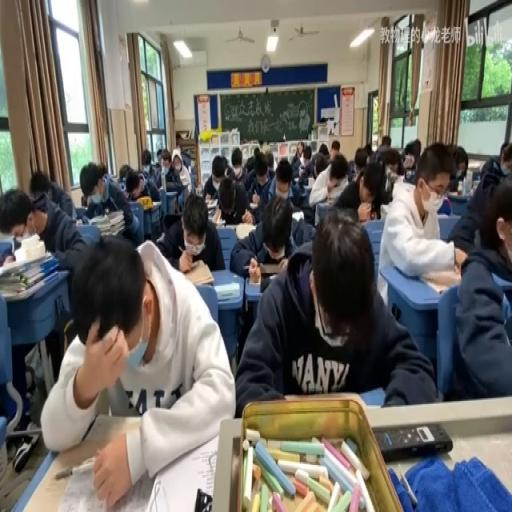calculator: (55, 448, 155, 512), (145, 431, 219, 509), (420, 264, 464, 294), (180, 257, 214, 286), (214, 282, 240, 300), (234, 222, 256, 240), (99, 220, 124, 234), (0, 238, 13, 263), (291, 209, 304, 225), (447, 189, 467, 199), (204, 194, 218, 208), (211, 206, 223, 222), (88, 213, 104, 225), (219, 222, 236, 230), (306, 175, 314, 188), (248, 199, 258, 209), (155, 232, 164, 243), (150, 198, 162, 206), (267, 273, 280, 280), (292, 176, 301, 185), (108, 175, 118, 183), (76, 216, 82, 223)
paper: (234, 209, 430, 413), (2, 180, 90, 416), (447, 144, 512, 263), (157, 191, 224, 273), (77, 160, 141, 240), (306, 151, 352, 226), (29, 170, 74, 220), (0, 186, 32, 242), (202, 155, 232, 205), (162, 148, 190, 199), (130, 162, 161, 205), (374, 145, 402, 179), (399, 138, 421, 179), (296, 144, 318, 180), (480, 158, 503, 186), (228, 148, 246, 182), (352, 146, 370, 176), (453, 148, 468, 183), (291, 179, 310, 202), (276, 165, 291, 188), (186, 159, 196, 189), (118, 164, 132, 184), (264, 149, 274, 175), (470, 165, 484, 183), (142, 151, 152, 175), (244, 155, 254, 176), (499, 141, 510, 159), (345, 158, 354, 180), (318, 142, 328, 160), (330, 141, 340, 158), (381, 135, 392, 148), (99, 161, 107, 176), (253, 145, 260, 161), (261, 144, 270, 155), (156, 148, 162, 163), (304, 154, 310, 164)
person: (374, 422, 451, 462), (258, 260, 284, 276), (193, 488, 212, 509), (248, 269, 261, 286), (242, 266, 252, 273)
